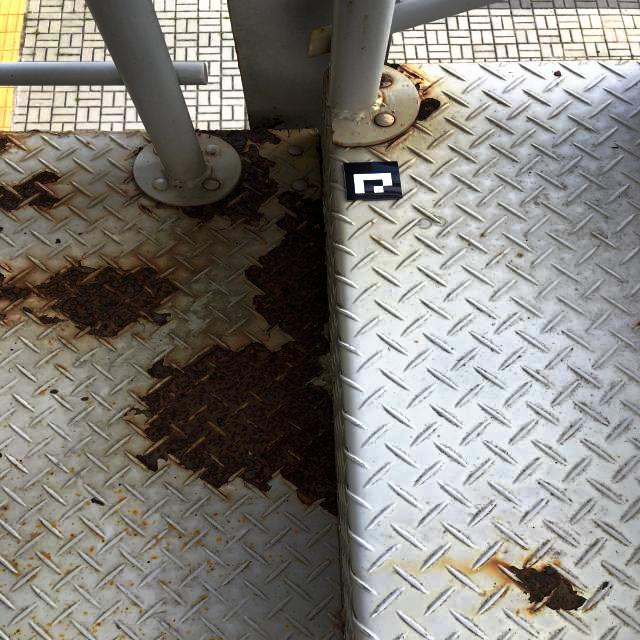Corrosion: (132, 191, 338, 514), (34, 259, 182, 337), (182, 128, 283, 228), (182, 158, 273, 223), (509, 567, 586, 612), (0, 169, 61, 213), (371, 118, 418, 149), (0, 272, 41, 302), (416, 97, 441, 120), (251, 118, 285, 130), (330, 608, 347, 630), (35, 314, 68, 325), (0, 134, 16, 155), (415, 82, 433, 96), (197, 214, 215, 228), (380, 73, 393, 87), (138, 204, 154, 215), (0, 312, 13, 325), (384, 62, 402, 71), (154, 201, 166, 209), (408, 72, 421, 78), (204, 178, 220, 182), (307, 184, 319, 189), (274, 128, 284, 132), (210, 152, 217, 156), (304, 126, 308, 129)
